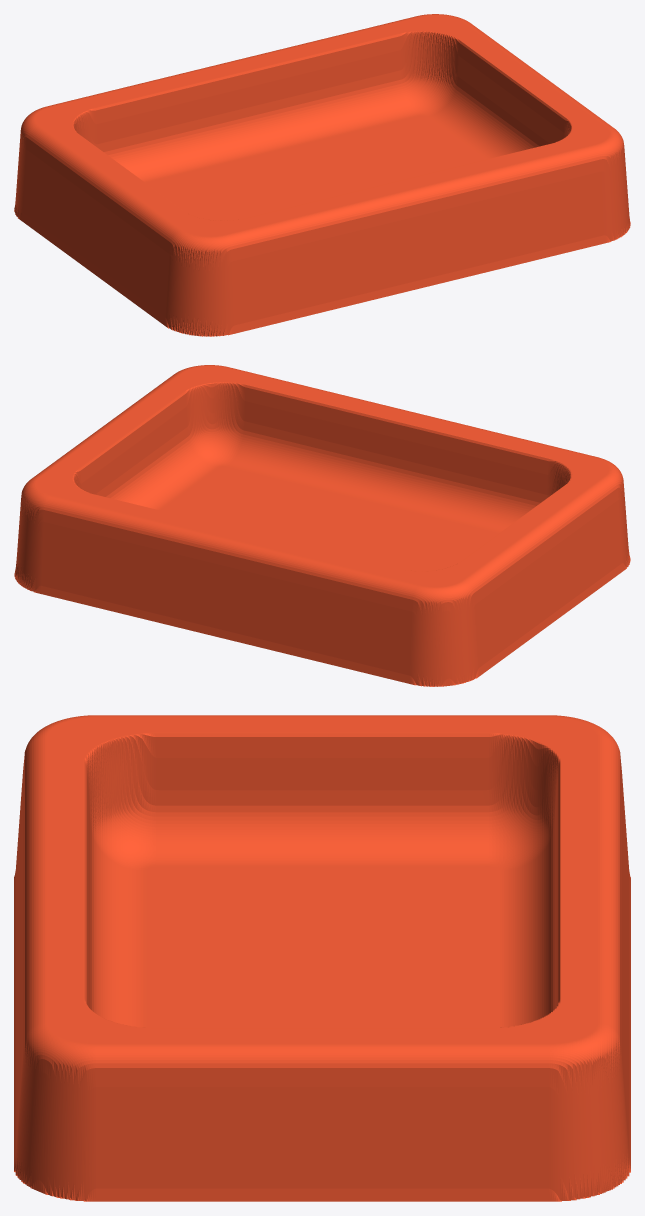
The model's file is mold.glb.
The picture shows the model from 3 angles, top to bottom: view 1: azimuth 30°, elevation 25°; view 2: azimuth 150°, elevation 25°; view 3: azimuth 270°, elevation 25°; orthographic projection. The views are drawn at different scales.
Parts seen in each view (by area): view 1: geometry_0; view 2: geometry_0; view 3: geometry_0.
Part boxes in pixels (left/top/right/bottom): geometry_0: left=14, top=14, right=630, bottom=336; geometry_0: left=14, top=365, right=630, bottom=686; geometry_0: left=14, top=715, right=630, bottom=1201.
Size of the model in its own units: 0.0924 by 0.0175 by 0.068.
